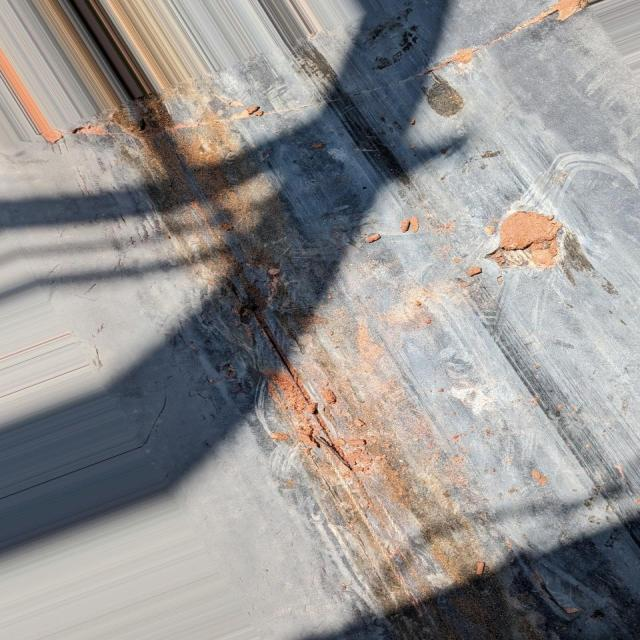impact damage: (120, 129, 515, 640)
